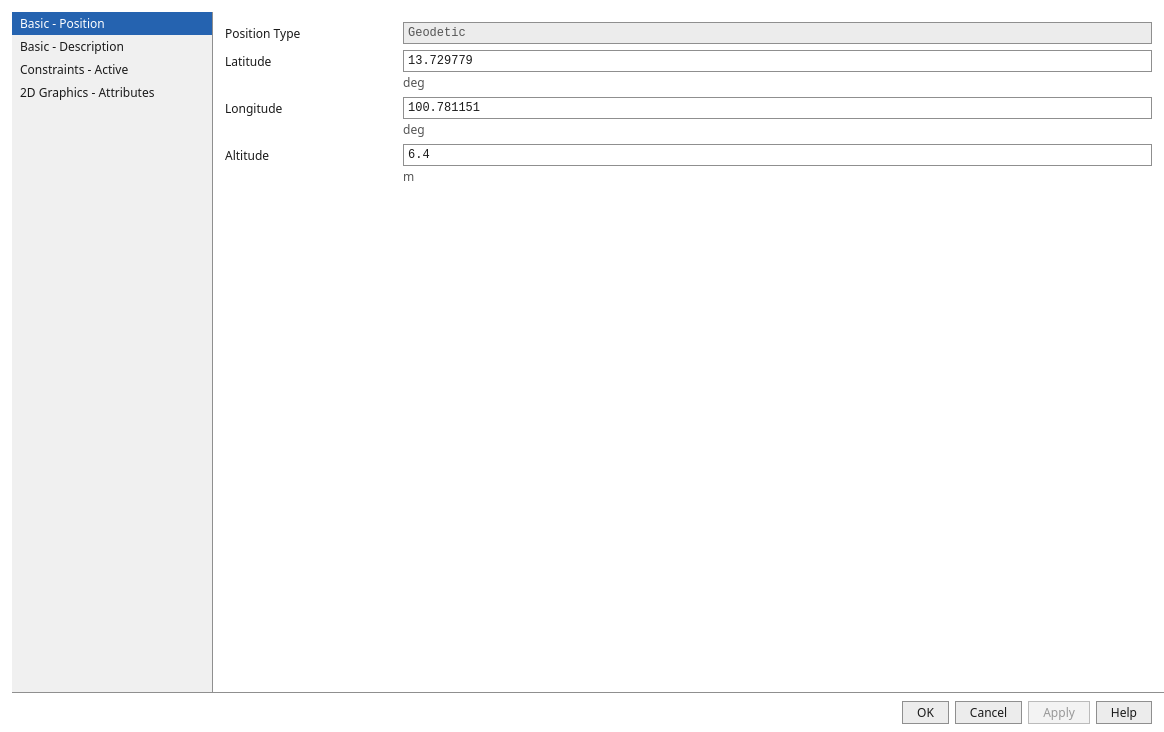
loading the pages › Apply is off until something changes
Click the tab "Constraints - Active" at (112, 70), box 12,58 -> 212,81
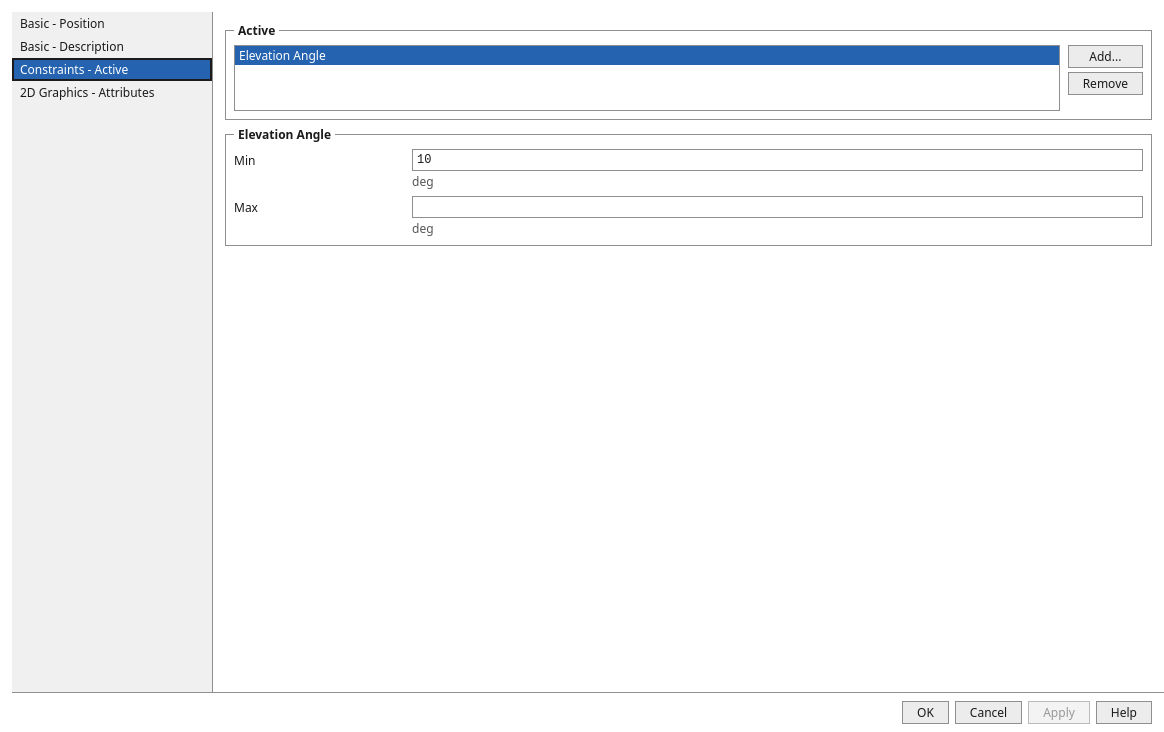
expect the button "Apply" is disabled: met, box 1028,701 -> 1090,724
Replace the text in the field labelled "Min" with "15" at (778, 160), box 412,149 -> 1143,171
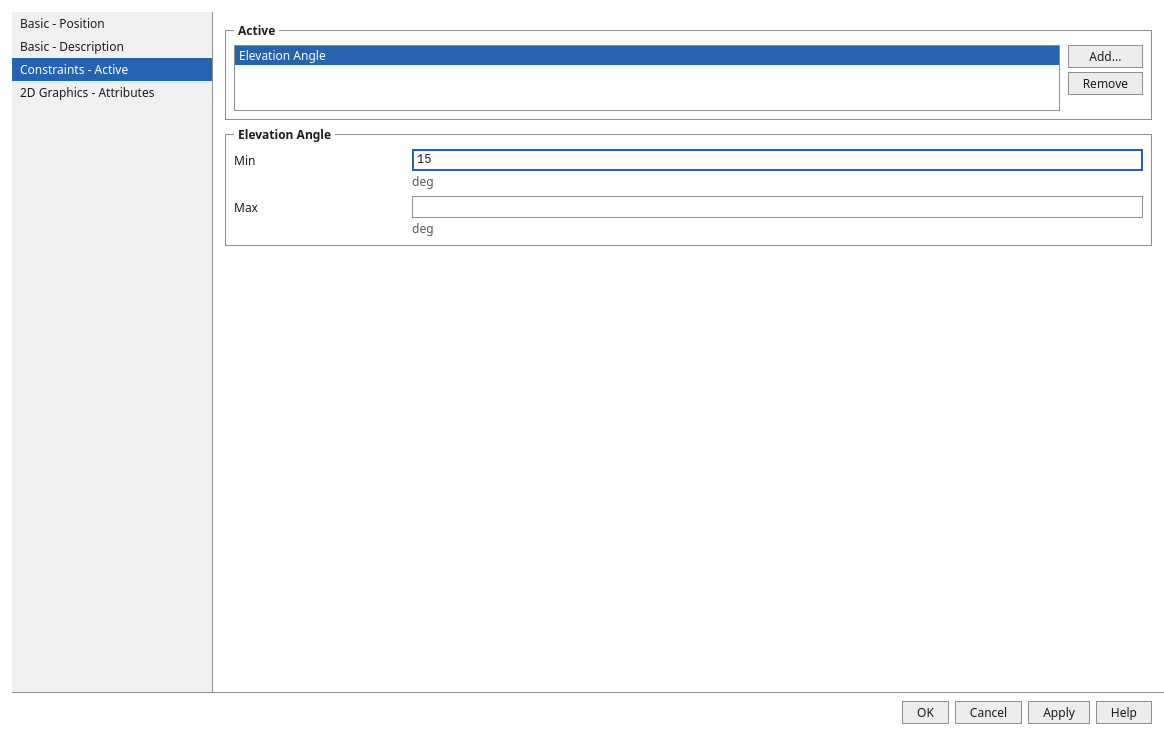
expect the button "Apply" is enabled: met, box 1028,701 -> 1090,724
Replace the text in the field labelled "Min" with "10" at (778, 160), box 412,149 -> 1143,171
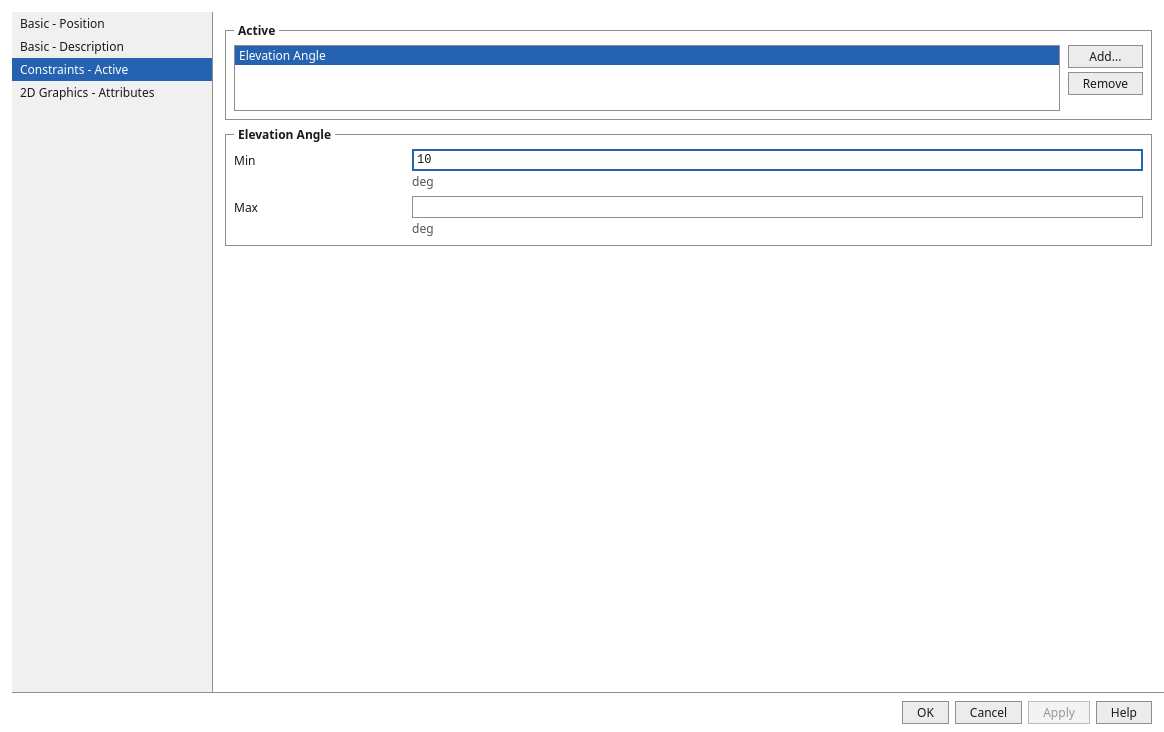
expect the button "Apply" is disabled: met, box 1028,701 -> 1090,724
